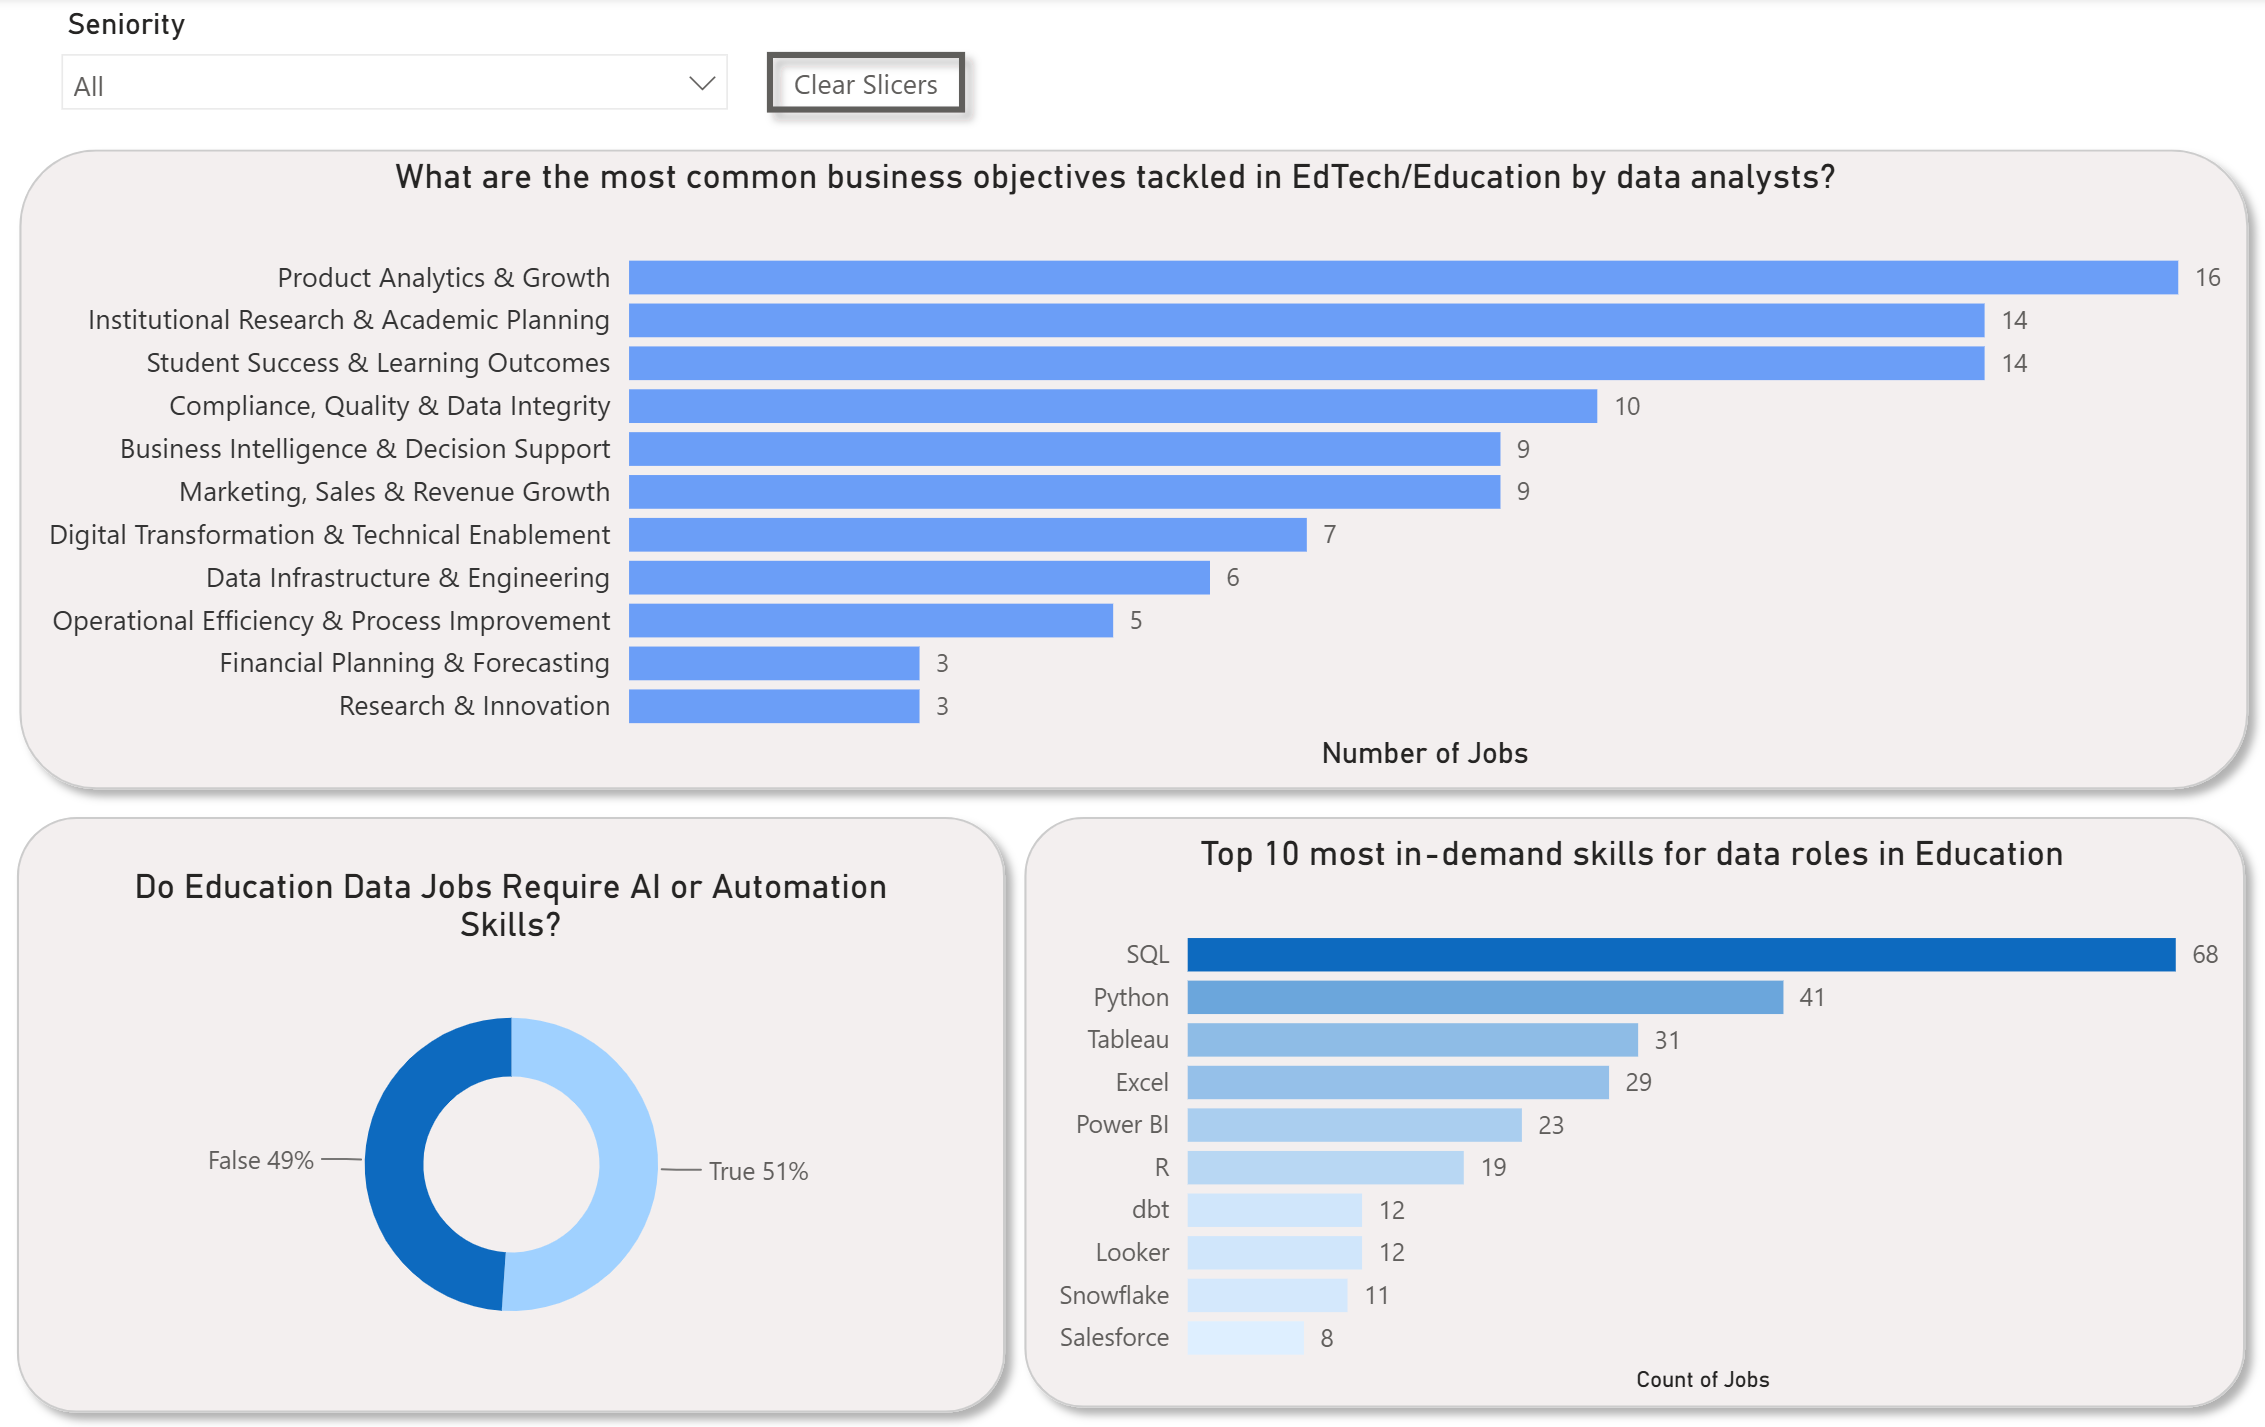

The dashboard page shown, as its layout file describes it:
{"tool":"powerbi","page":{"name":"Skills","canvas":[1280,720],"ordinal":1},"visuals":[{"type":"group","id":"g1","title":"Background","box":[96,66,1109.7,635.8],"z":0},{"type":"shape","box":[97.5,66,1108.2,331],"z":0,"group":"g1"},{"type":"shape","box":[96,392.5,501.4,309.4],"z":1000,"group":"g1"},{"type":"barChart","title":"Top 10 most in-demand skills for data roles in Education","fields":{"Y":["CountNonNull(ed_job_merged.Job ID)"],"Category":["ed_job_merged.Skills.Technical_skills"]},"box":[604.1,409.6,583.3,277.6],"z":1000},{"type":"shape","box":[588.8,392.5,615.1,306.9],"z":2000,"group":"g1"},{"type":"donutChart","title":"Do Education Data Jobs Require AI or Automation Skills?","fields":{"Y":["CountNonNull(ed_job_postings.Job ID)"],"Category":["ed_job_postings.AI_Automation_Mentioned"]},"box":[135.7,425.5,423.1,243.3],"z":2000},{"type":"barChart","title":"What are the most common business objectives tackled in EdTech/Education by data analysts?","fields":{"Y":["CountNonNull(ed_job_postings.Job ID)"],"Category":["ed_job_postings.Business Objective"]},"box":[97.8,78.3,1090.8,304.5],"z":3000},{"type":"slicer","fields":{"Values":["ed_job_postings.Seniority"]},"box":[117.4,0,346.1,68.5],"z":4000},{"type":"actionButton","box":[463.5,18.3,114.9,47.7],"z":5000}]}

Visuals, with their boxes on the page's 1280x720 design canvas (x1, y1, x2, y2). These are canvas units, not pixel positions in the 2265x1427 screenshot, which may show the page scaled, cropped or inside an application window:
"Background" group: box=[96, 66, 1206, 702]
shape: box=[98, 66, 1206, 397]
shape: box=[96, 392, 597, 702]
"Top 10 most in-demand skills for data roles in Education" barChart: box=[604, 410, 1187, 687]
shape: box=[589, 392, 1204, 699]
"Do Education Data Jobs Require AI or Automation Skills?" donutChart: box=[136, 426, 559, 669]
"What are the most common business objectives tackled in EdTech/Education by data analysts?" barChart: box=[98, 78, 1189, 383]
slicer - ed_job_postings.Seniority: box=[117, 0, 464, 68]
actionButton: box=[464, 18, 578, 66]
